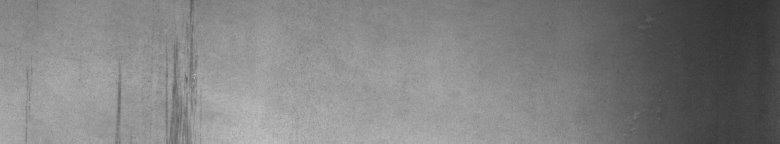ka: (116, 4, 200, 136)
